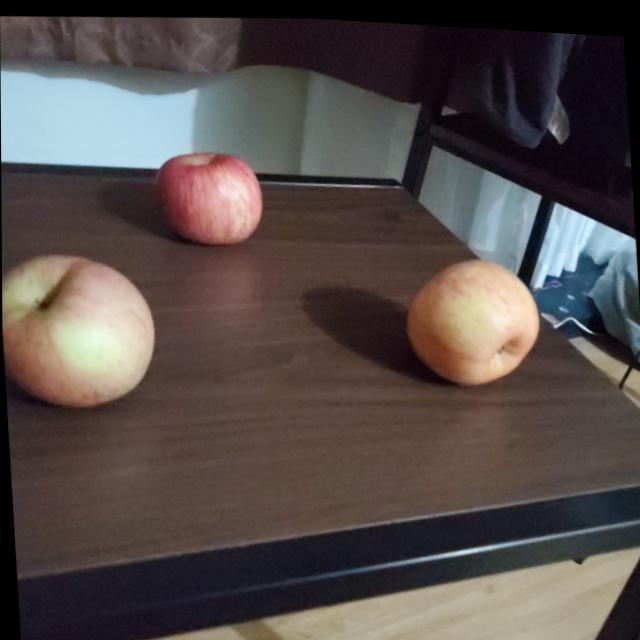apple: (1, 248, 157, 413), (406, 251, 544, 388), (156, 143, 263, 243)
